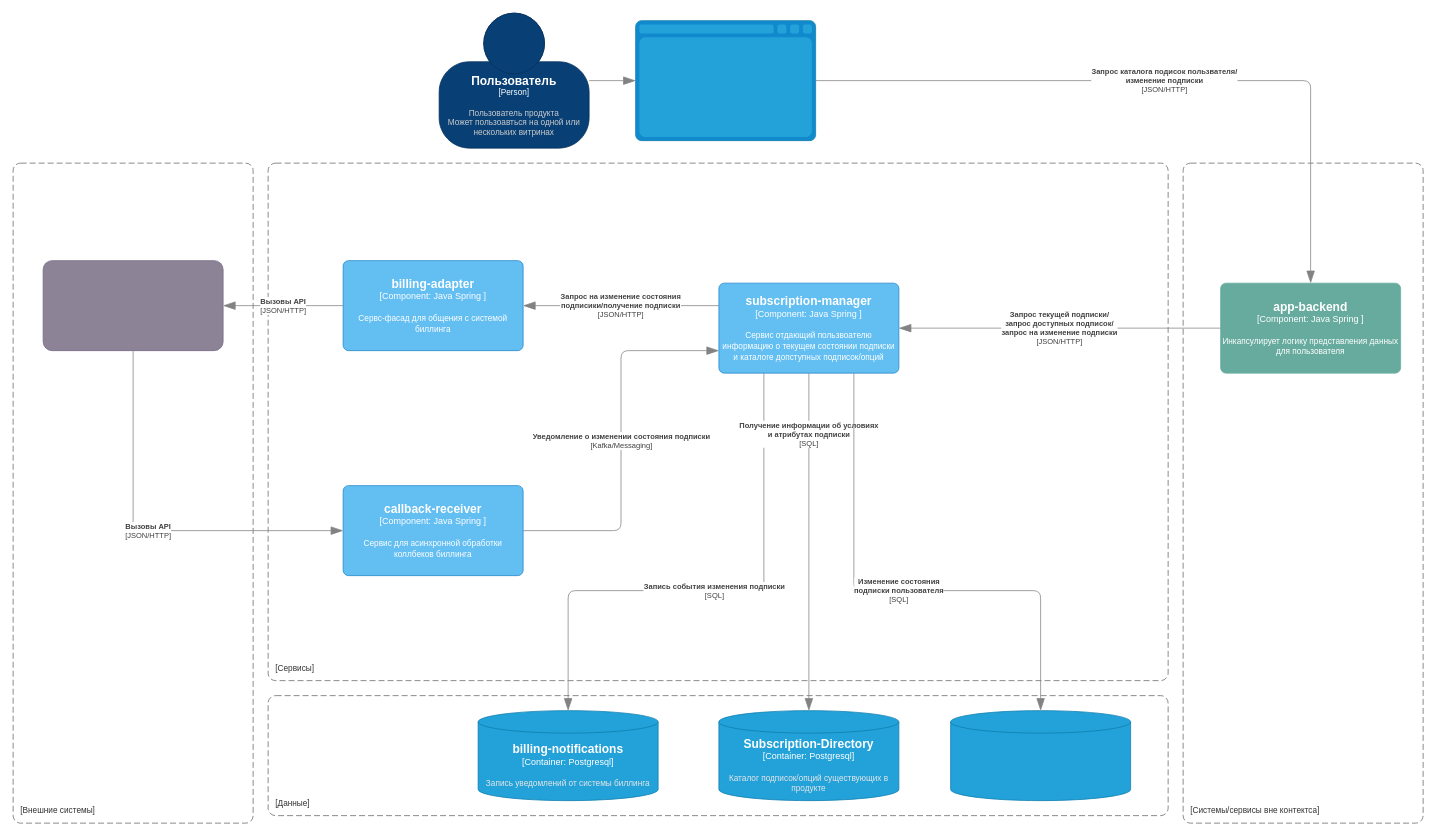
The diagram is 1436 pixels wide and 836 high, and some of its shapes have lost their labels. The shapes that lost their labels are listed below. From the top down, each one's centre as x and y in pixels, then its label:
At pixel 725 80: "WebApp [Container: Angular] Веб приложение".
At pixel 132 305: "Billing [Software System] Внешняя система тарификации пользователей.".
At pixel 1040 755: "Subscriptions-History [Container: Postgresql] История подписок пользователей".
